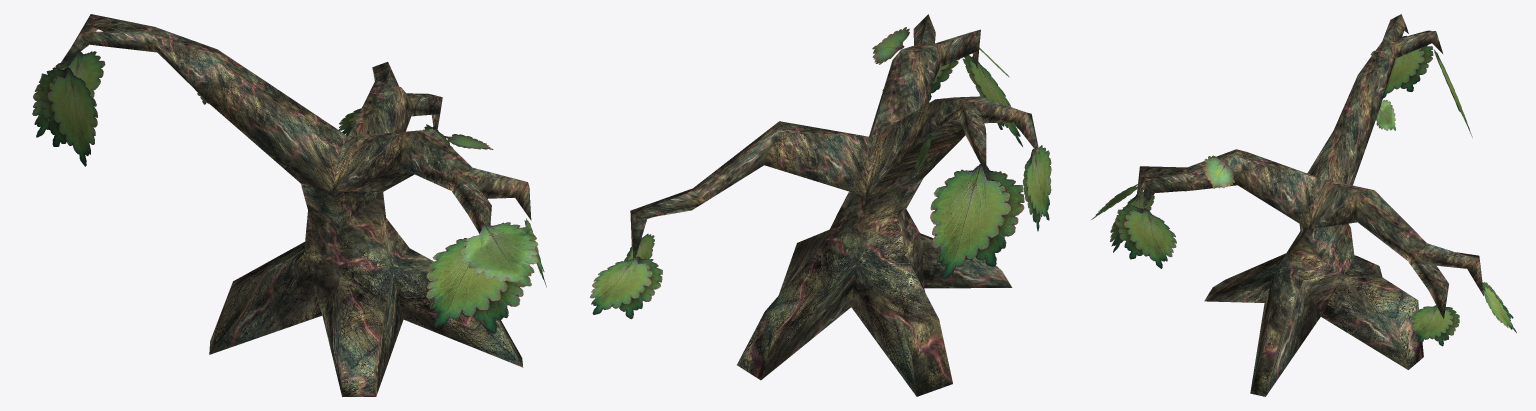
The model's file is leaf_dath_hwotha_a1_l1.fbx.
3 renders of one model, left to right at view 1: azimuth 30°, elevation 25°; view 2: azimuth 150°, elevation 25°; view 3: azimuth 270°, elevation 25°, orthographic. The views are drawn at different scales.
Parts seen in each view (by area): view 1: mesh_node; view 2: mesh_node; view 3: mesh_node.
Part boxes in pixels (x1=…): mesh_node: x1=32, y1=14, x2=546, y2=396; mesh_node: x1=590, y1=14, x2=1051, y2=396; mesh_node: x1=1091, y1=14, x2=1516, y2=396.
Size of the model in its own units: 4.17 by 3.21 by 4.97.
2 materials, 2 textured.
